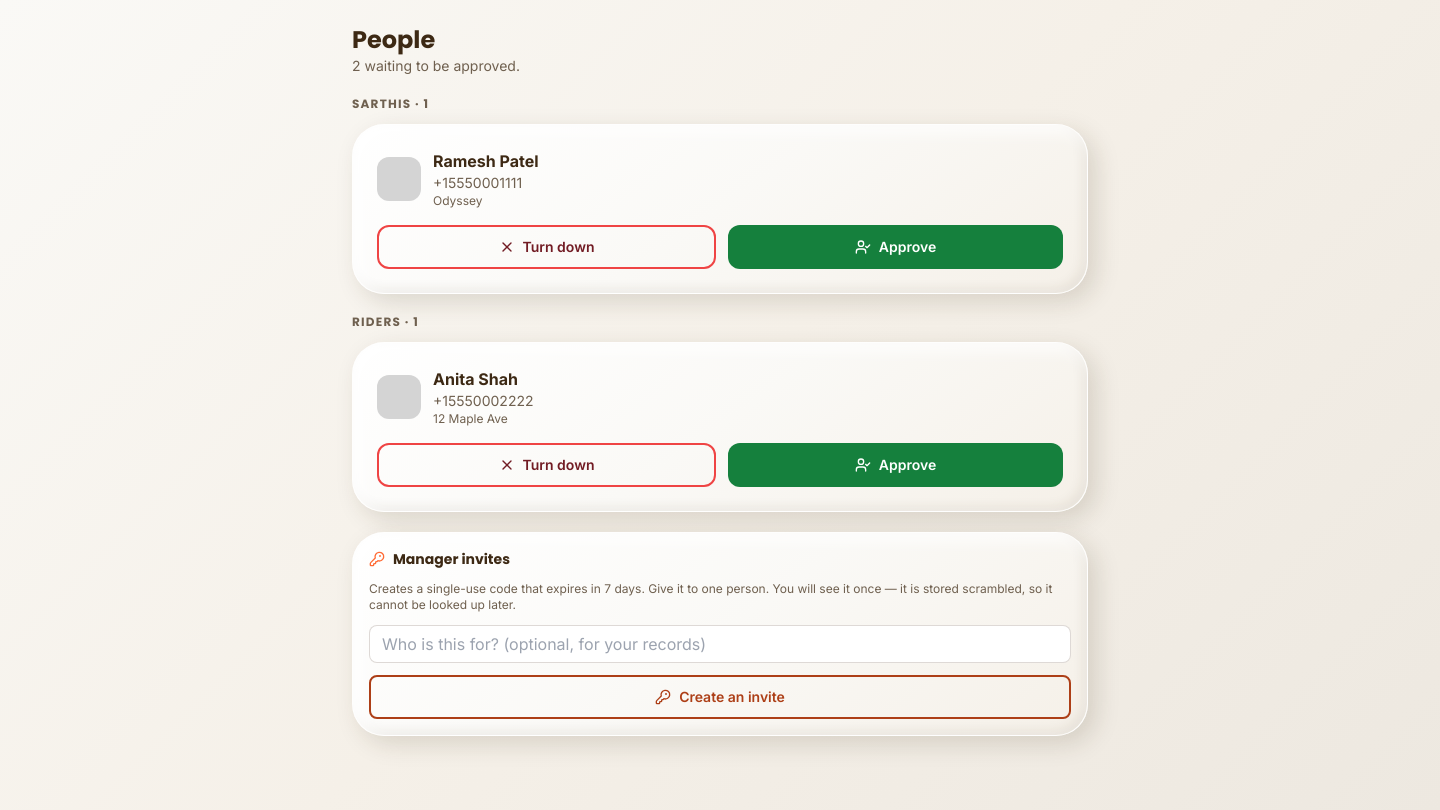
ManagerPeople — approving › confirms it happened
Click the button "Approve" below "Odyssey".
click(896, 247)  # box [728,225,1063,269]
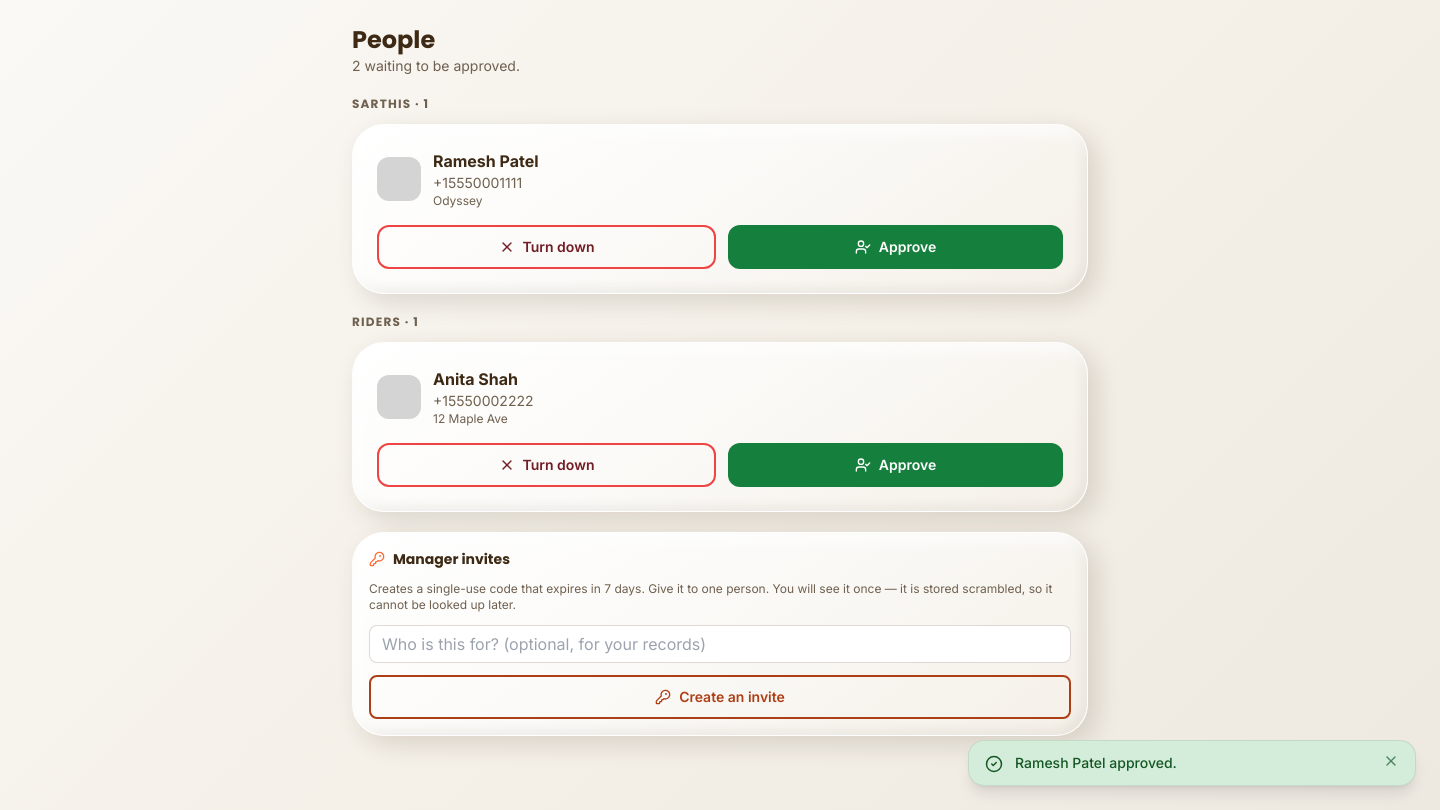
Expected: the text "Ramesh Patel approved." is shown, [1015,754,1177,771]
